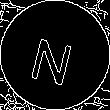N_N: (30, 26, 80, 84)
